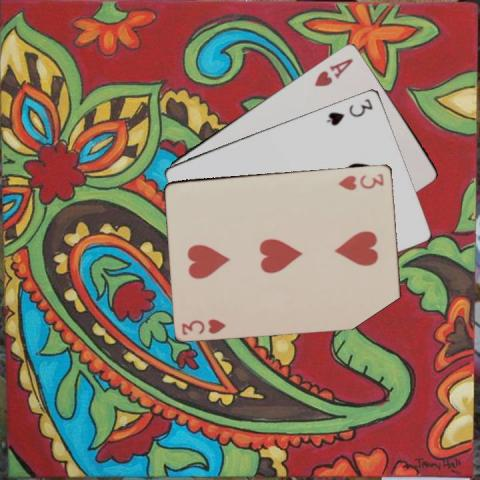3h: (336, 170, 386, 191), (180, 315, 228, 336)
3s: (324, 95, 374, 127)
Ah: (311, 55, 355, 88)
